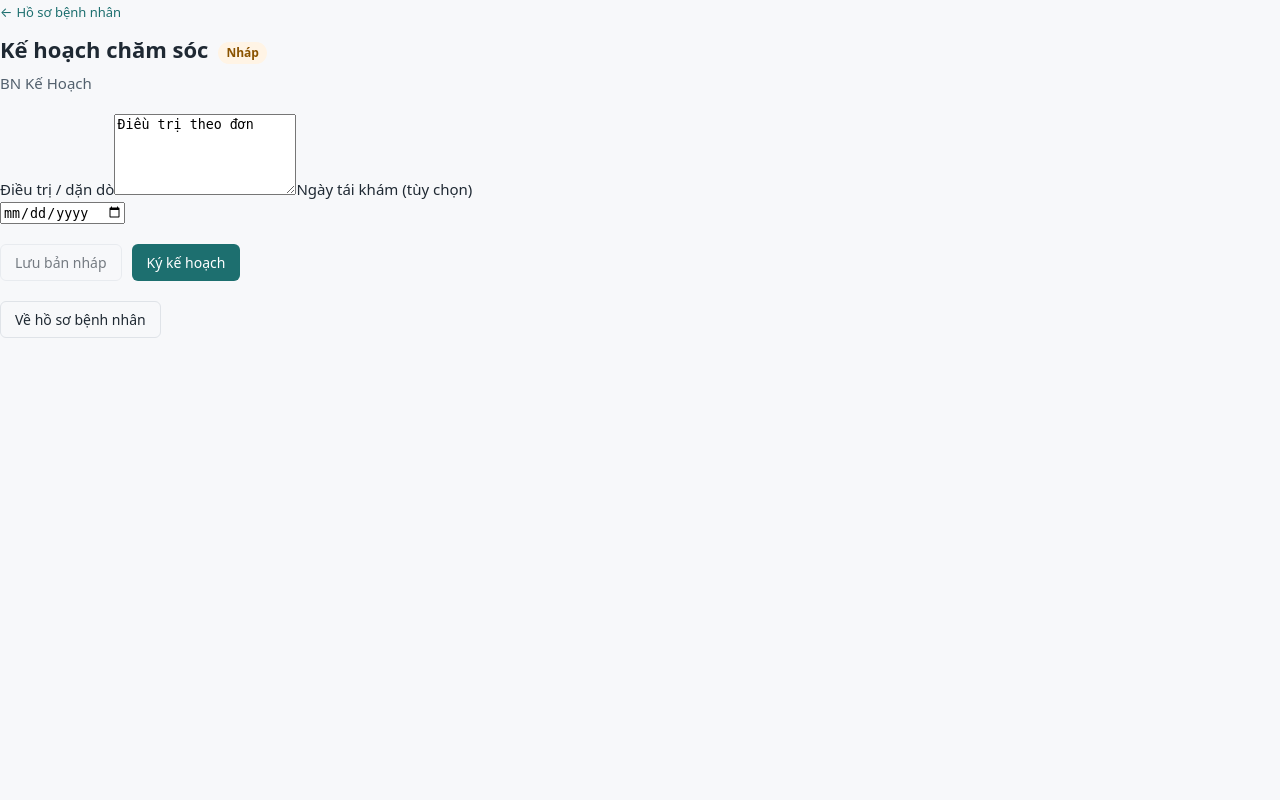
Test: CarePlanPage — sign/amend UI state › C1: editing a field after opening the sign confirmation cannot sign stale server data
Expected: the text box labelled "Điều trị / dặn dò" is shown, [114,114,296,195]
Click the button "Ký kế hoạch": (186, 262) [132,244,240,281]
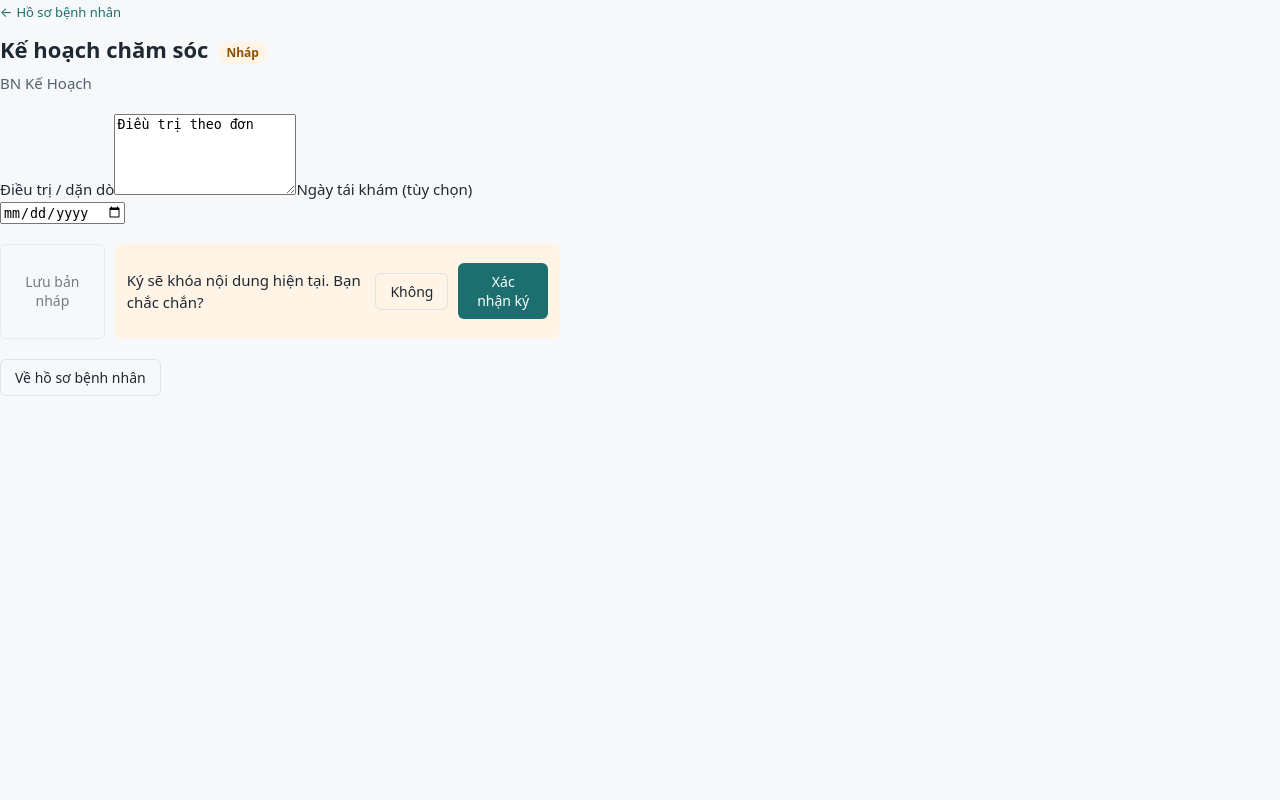
Expected: the button "Xác nhận ký" is shown, [458,263,548,319]
Note: Change a field while the confirmation is open.
In the text box labelled "Điều trị / dặn dò": (205, 154) [114,114,296,195], type " - sửa nữa"
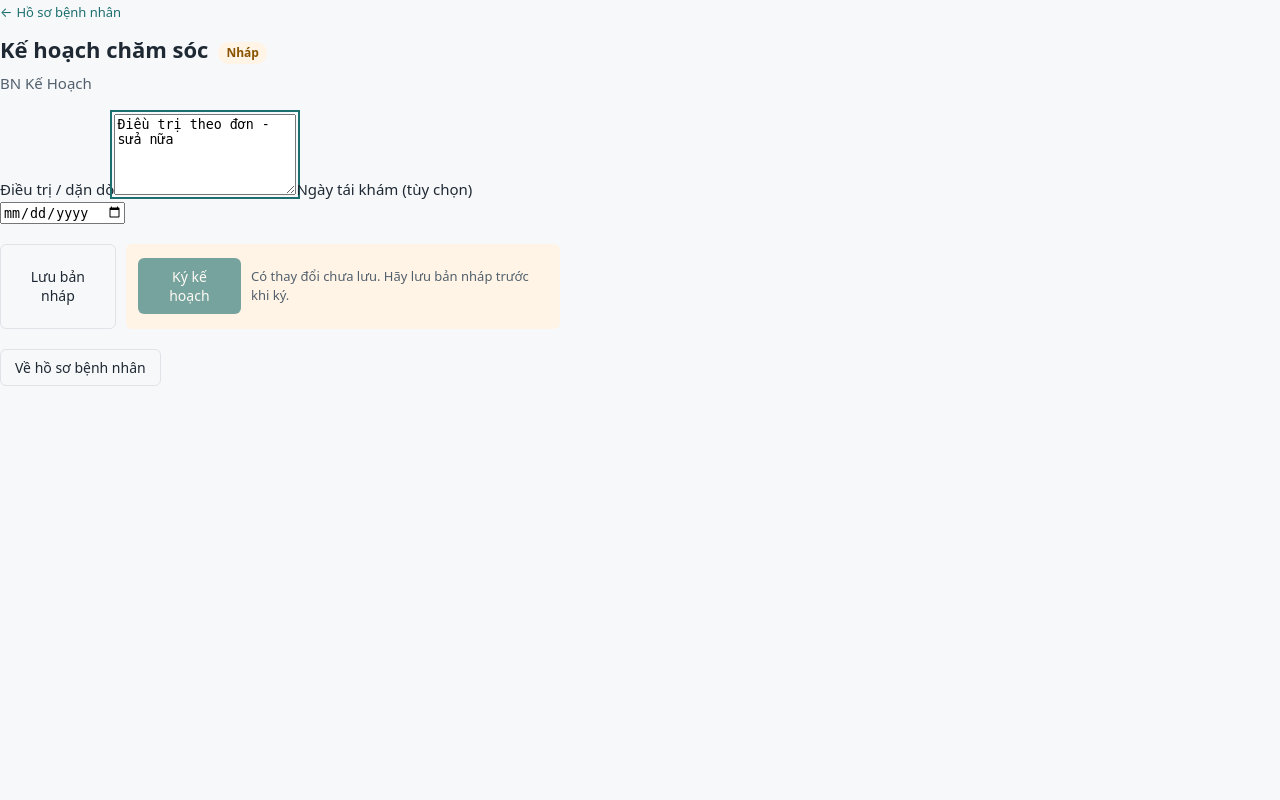
Expected: the button "Xác nhận ký" is gone
Expected: the text "Có thay đổi chưa lưu. Hãy lưu bản nháp trước khi ký." is shown, [251,267,548,306]
